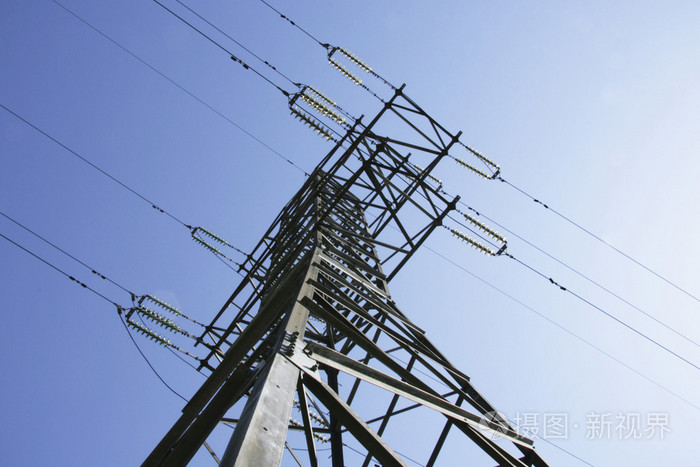insulator: (303, 84, 346, 125), (291, 105, 335, 143), (123, 315, 170, 348), (451, 227, 499, 259), (464, 214, 508, 243), (139, 306, 182, 335), (450, 155, 492, 182), (336, 46, 375, 75), (328, 59, 364, 89), (463, 144, 501, 170), (151, 292, 181, 319)
